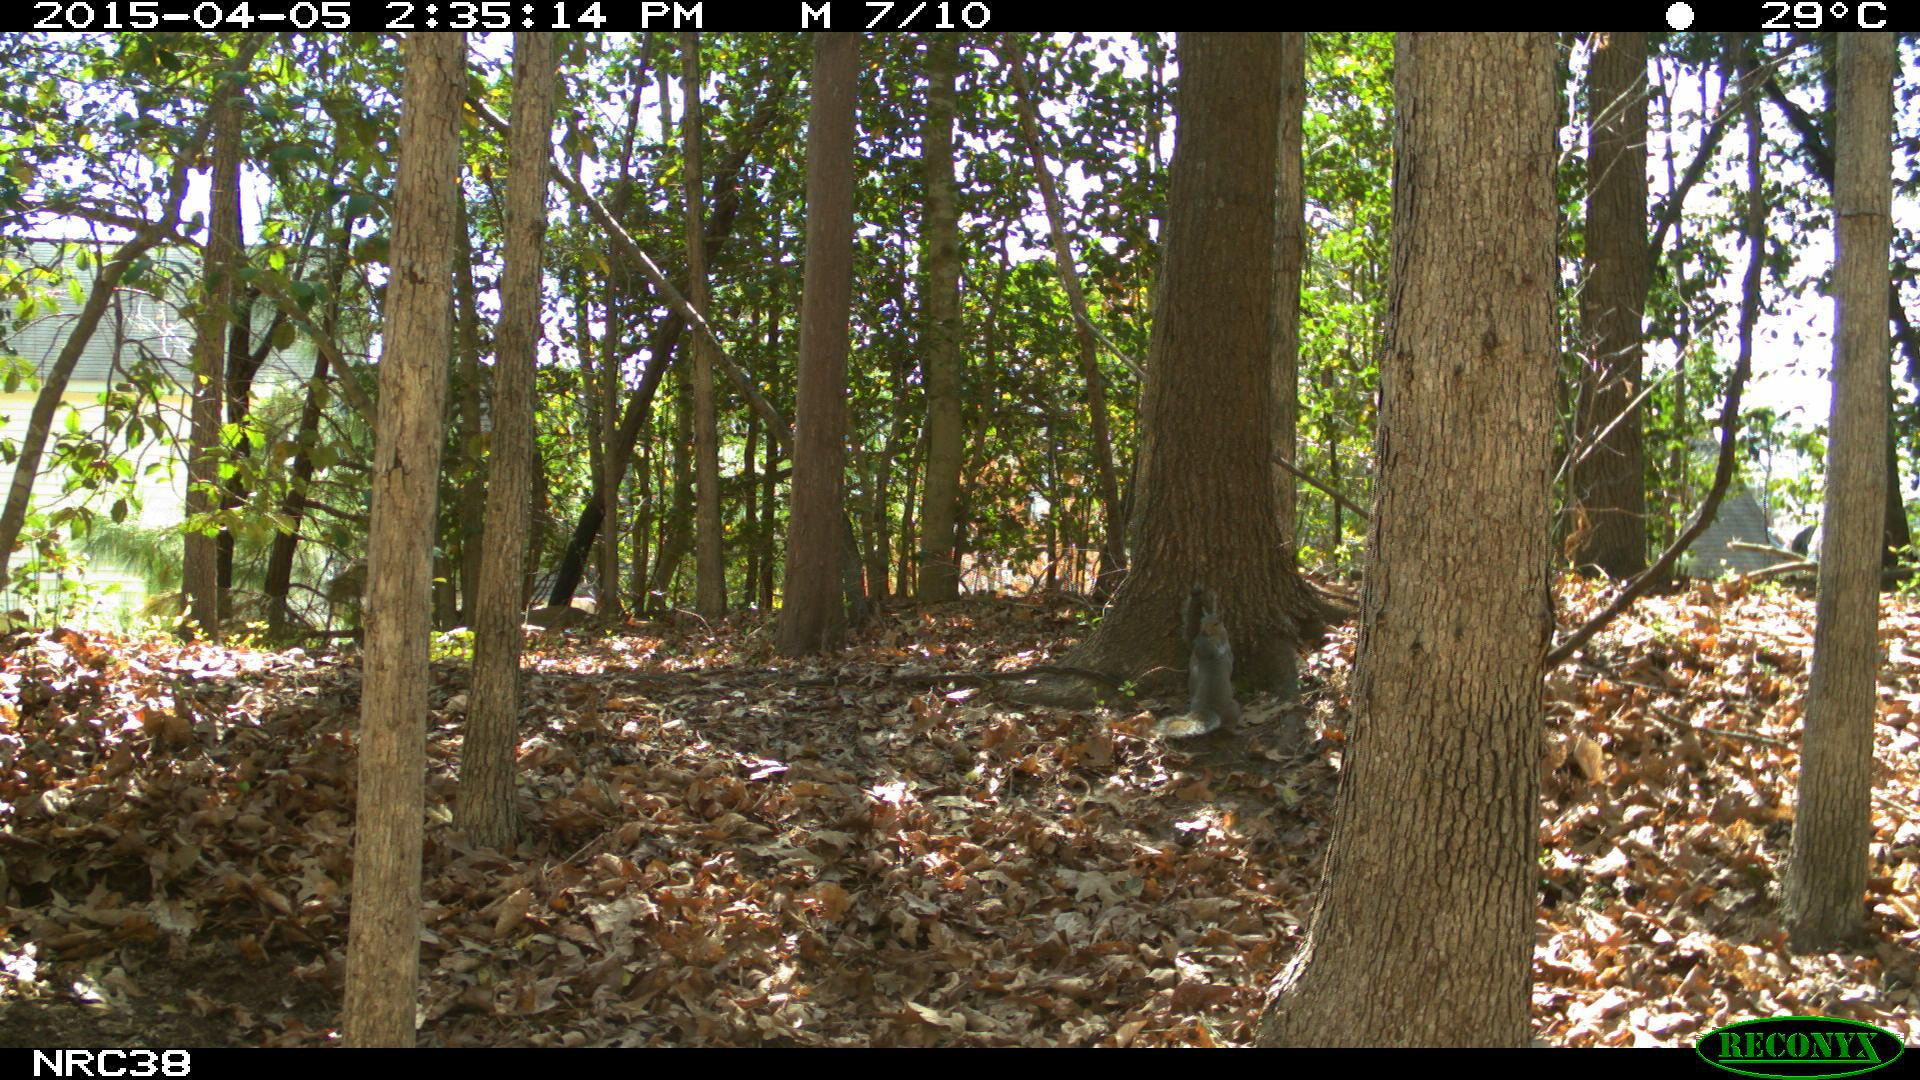Animal: (1180, 587, 1247, 735)
